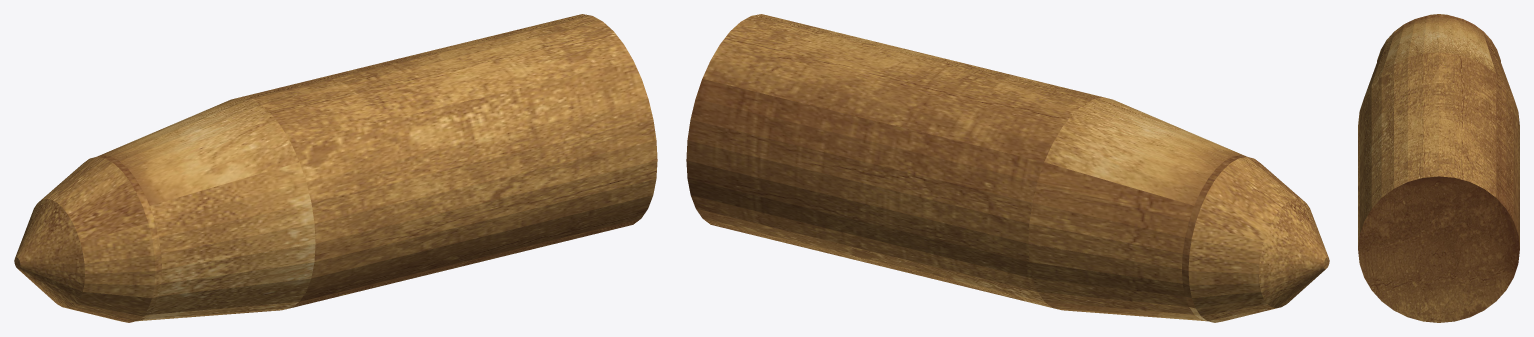
Rendered from bullet.obj.
The picture shows the model from 3 angles, left to right: view 1: azimuth 30°, elevation 25°; view 2: azimuth 150°, elevation 25°; view 3: azimuth 270°, elevation 25°; orthographic projection. The views are drawn at different scales.
Visible parts, largest first — view 1: Cylinder; view 2: Cylinder; view 3: Cylinder.
Part boxes in pixels (box(x1,y1,x2,y2)): Cylinder: box(14, 14, 657, 322); Cylinder: box(686, 14, 1329, 322); Cylinder: box(1358, 14, 1519, 322).
Size of the model in its own units: 3.27 by 1.06 by 1.05.
1 material, 1 textured.
